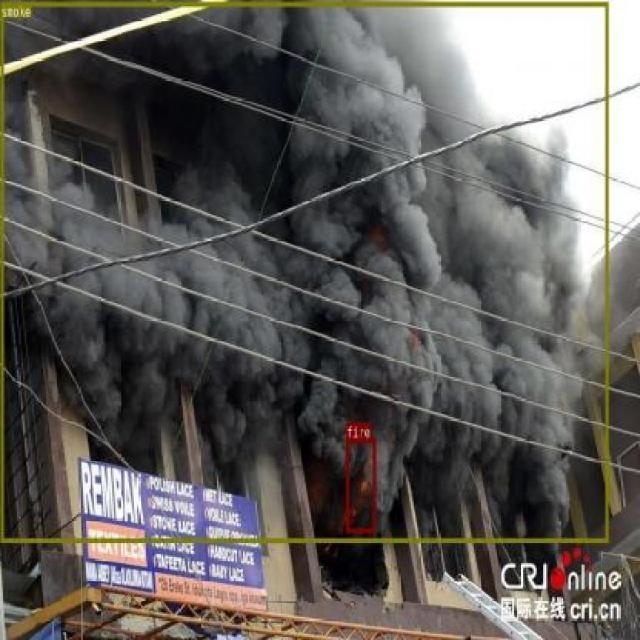Fire: (333, 443, 387, 542)
Smoke: (0, 0, 612, 577)
